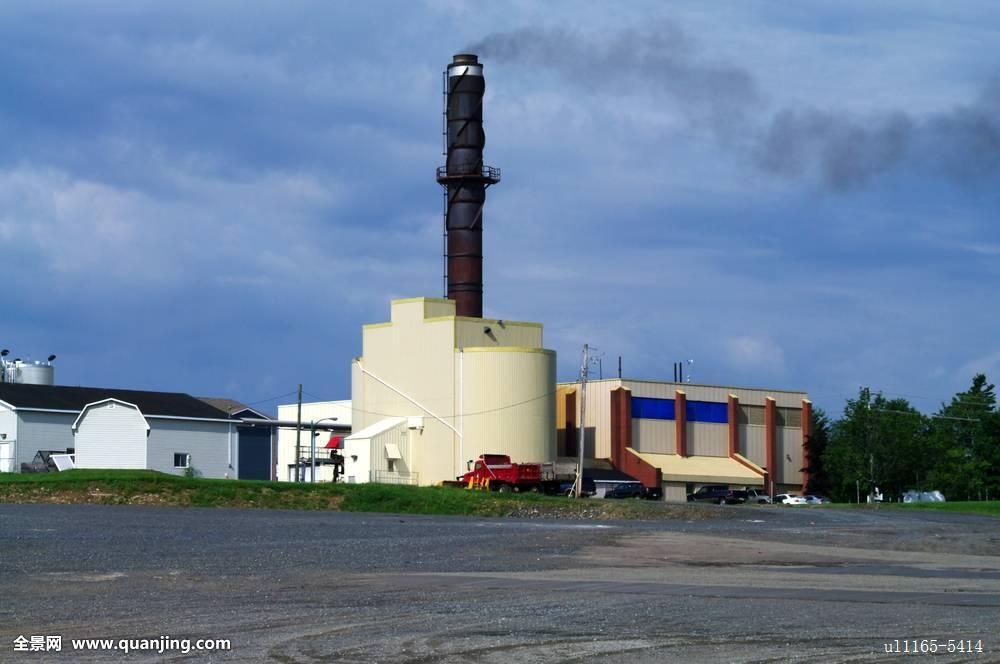dust: (440, 1, 722, 104)
